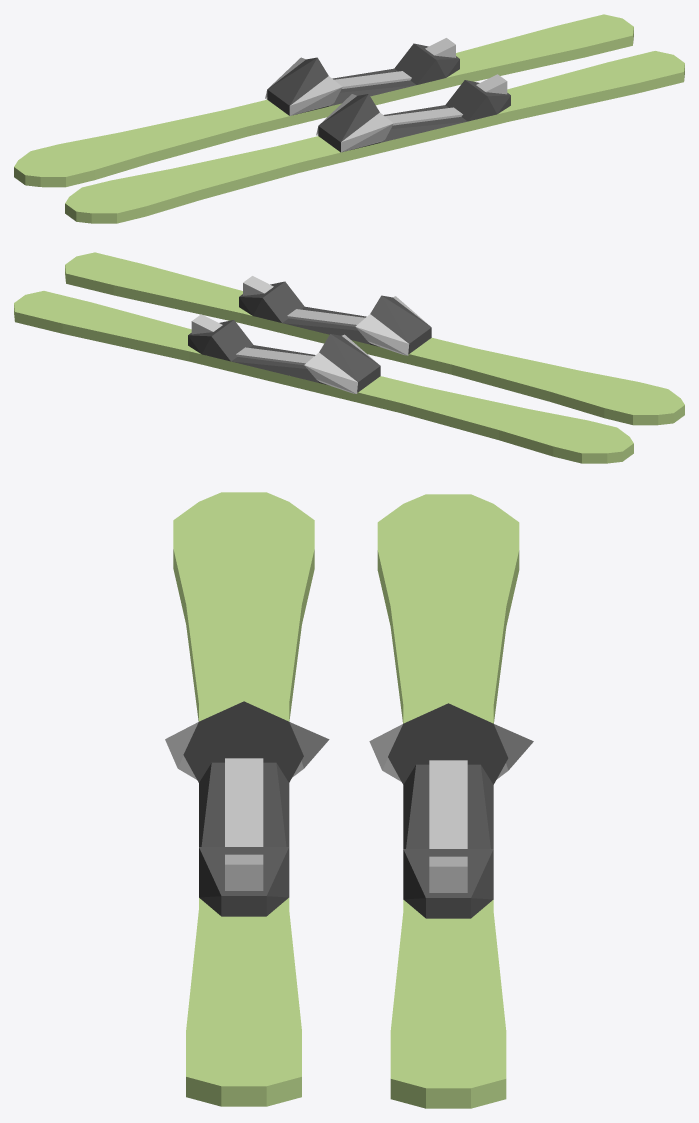
Rendered from Ski.gltf.
3 views of the same model, one above another, from view 1: azimuth 30°, elevation 25°; view 2: azimuth 150°, elevation 25°; view 3: azimuth 270°, elevation 25° (orthographic). The views are drawn at different scales.
Parts seen in each view (by area): view 1: Mesh2 skpB51KMR1 Model, Mesh13 skpB51KMR1 Model, Mesh3 skpB51KMR1 Model, Mesh9 skpB51KMR1 Model, Mesh4 skpB51KMR1 Model, Mesh8 skpB51KMR1 Model, Mesh11 skpB51KMR1 Model, Mesh5 skpB51KMR1 Model, Mesh7 skpB51KMR1 Model, Mesh12 skpB51KMR1 Model, Mesh1 skpB51KMR1 Model, Mesh10 skpB51KMR1 Model; view 2: Mesh13 skpB51KMR1 Model, Mesh2 skpB51KMR1 Model, Mesh4 skpB51KMR1 Model, Mesh9 skpB51KMR1 Model, Mesh3 skpB51KMR1 Model, Mesh8 skpB51KMR1 Model, Mesh6 skpB51KMR1 Model, Mesh12 skpB51KMR1 Model, Mesh7 skpB51KMR1 Model, Mesh10 skpB51KMR1 Model, Mesh1 skpB51KMR1 Model; view 3: Mesh13 skpB51KMR1 Model, Mesh2 skpB51KMR1 Model, Mesh9 skpB51KMR1 Model, Mesh3 skpB51KMR1 Model, Mesh4 skpB51KMR1 Model, Mesh8 skpB51KMR1 Model, Mesh7 skpB51KMR1 Model, Mesh12 skpB51KMR1 Model, Mesh10 skpB51KMR1 Model, Mesh1 skpB51KMR1 Model.
Boxes of the visible parts, box(x1,y1,x2,y2) form: Mesh2 skpB51KMR1 Model: box(65, 51, 684, 223); Mesh13 skpB51KMR1 Model: box(14, 14, 633, 187); Mesh3 skpB51KMR1 Model: box(380, 80, 510, 142); Mesh9 skpB51KMR1 Model: box(329, 43, 459, 106); Mesh4 skpB51KMR1 Model: box(265, 57, 328, 115); Mesh8 skpB51KMR1 Model: box(318, 94, 380, 152); Mesh11 skpB51KMR1 Model: box(289, 76, 342, 115); Mesh5 skpB51KMR1 Model: box(341, 112, 393, 152); Mesh7 skpB51KMR1 Model: box(334, 71, 411, 88); Mesh12 skpB51KMR1 Model: box(385, 107, 462, 125); Mesh1 skpB51KMR1 Model: box(476, 74, 507, 94); Mesh10 skpB51KMR1 Model: box(425, 38, 455, 57); Mesh13 skpB51KMR1 Model: box(14, 291, 633, 463); Mesh2 skpB51KMR1 Model: box(65, 252, 684, 425); Mesh4 skpB51KMR1 Model: box(304, 334, 380, 393); Mesh9 skpB51KMR1 Model: box(188, 320, 318, 382); Mesh3 skpB51KMR1 Model: box(239, 281, 369, 344); Mesh8 skpB51KMR1 Model: box(369, 295, 431, 353); Mesh6 skpB51KMR1 Model: box(355, 314, 409, 355); Mesh12 skpB51KMR1 Model: box(287, 309, 365, 326); Mesh7 skpB51KMR1 Model: box(236, 347, 313, 365); Mesh10 skpB51KMR1 Model: box(191, 314, 222, 334); Mesh1 skpB51KMR1 Model: box(243, 276, 273, 295); Mesh13 skpB51KMR1 Model: box(377, 494, 519, 1108); Mesh2 skpB51KMR1 Model: box(173, 492, 314, 1106); Mesh9 skpB51KMR1 Model: box(403, 764, 493, 918); Mesh3 skpB51KMR1 Model: box(199, 762, 289, 916); Mesh4 skpB51KMR1 Model: box(388, 703, 533, 784); Mesh8 skpB51KMR1 Model: box(183, 701, 303, 782); Mesh7 skpB51KMR1 Model: box(429, 760, 467, 848); Mesh12 skpB51KMR1 Model: box(225, 758, 263, 846); Mesh10 skpB51KMR1 Model: box(429, 856, 467, 892); Mesh1 skpB51KMR1 Model: box(225, 854, 263, 890).
Size of the model in its own units: 154 by 12.66 by 40.36.
